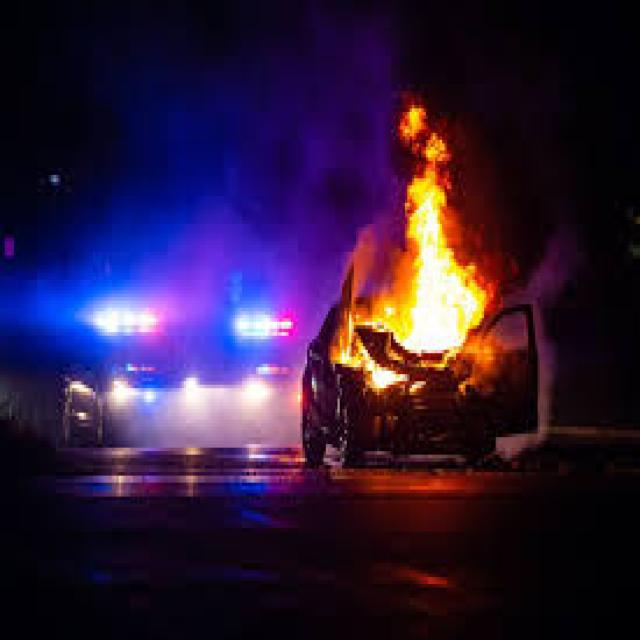Fire: (330, 75, 531, 425)
